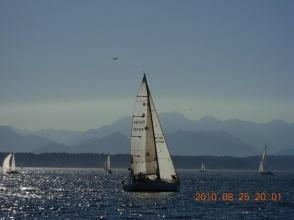fanchuan: (119, 70, 185, 195), (2, 147, 21, 178), (255, 147, 275, 175), (104, 154, 115, 177), (200, 162, 208, 172)
